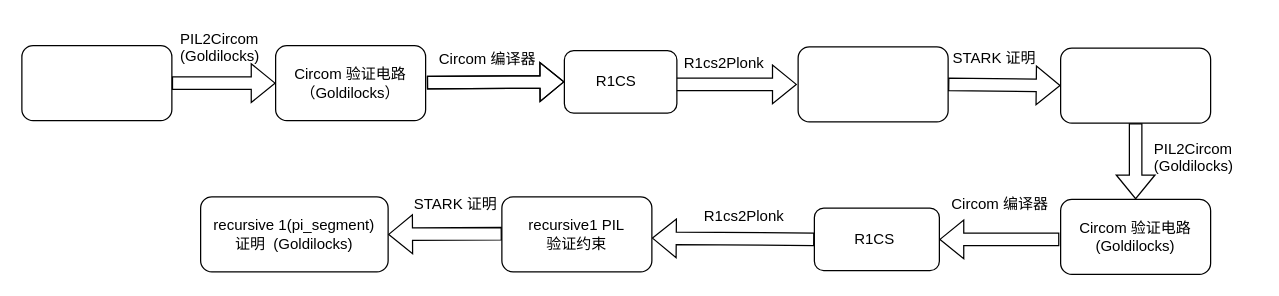
This 1279x296 diagram has some shape labels left out. The shapes that lost their labels are listed below. From the top down, each one's box as (x1, y1, x2, y2) in pixels, then its label:
(21, 44, 172, 121): Batch STARK 证明 （Goldilocks）
(797, 46, 948, 122): C12a PIL 验证约束
(1059, 47, 1211, 123): STARK C12a(pi_b) 证明 (Goldilocks)
